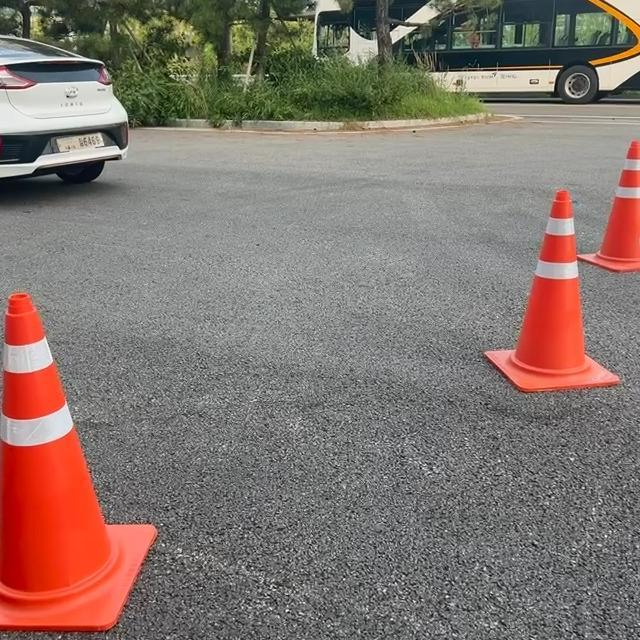fallen_object: (0, 247, 230, 640), (437, 176, 593, 367), (573, 127, 640, 329)
